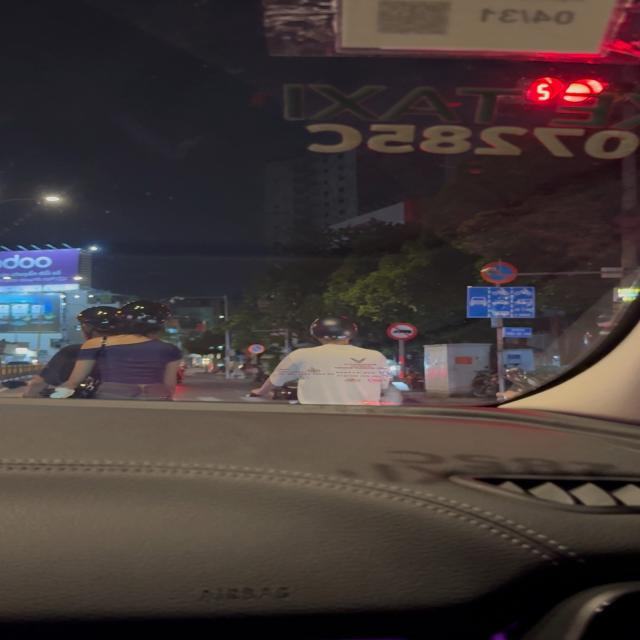Bien bao cam do xe: (247, 344, 268, 355)
Bien bao cam xe so-mi ro-mooc: (384, 322, 422, 342)
